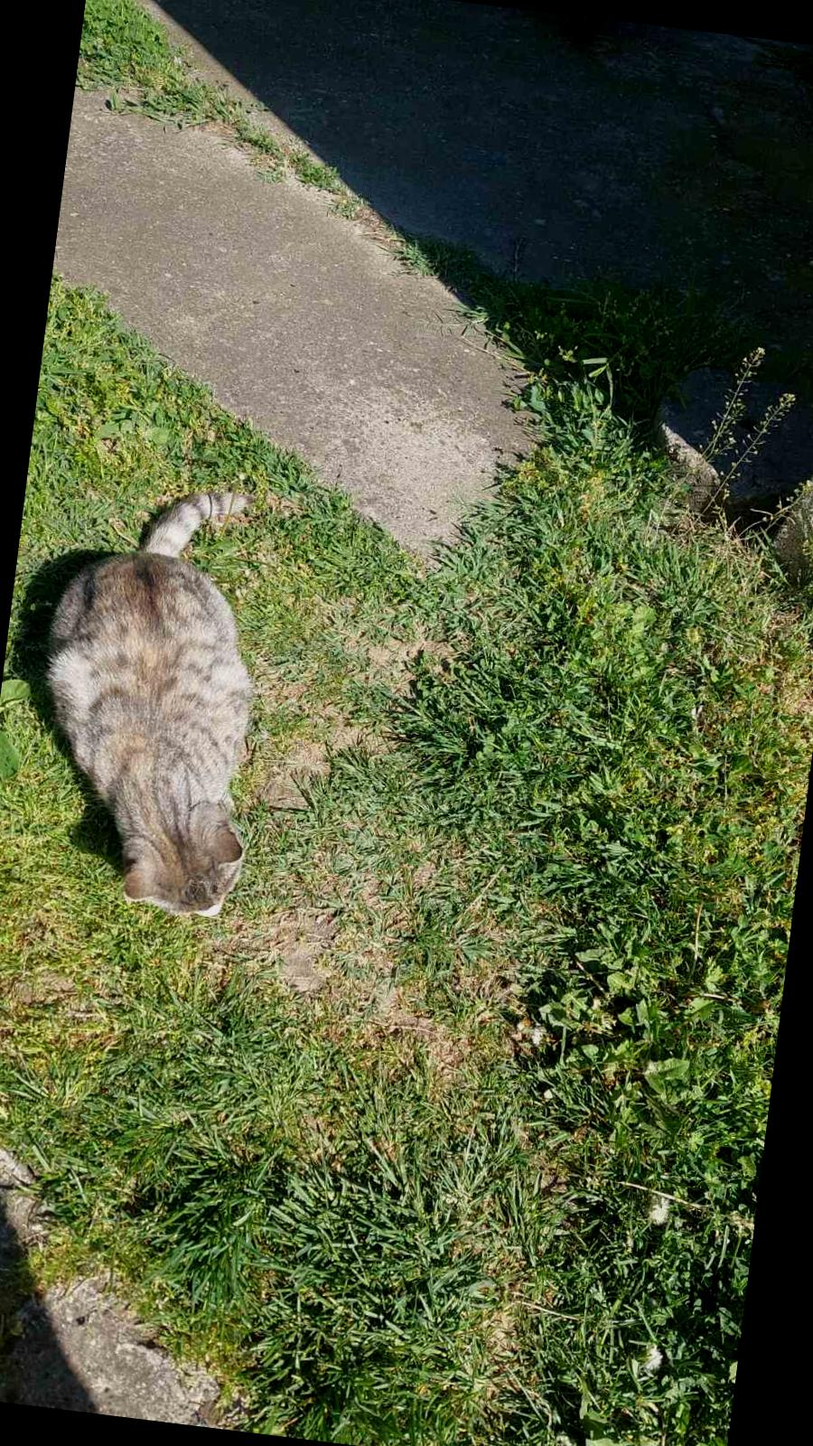macka: (17, 471, 289, 923)
